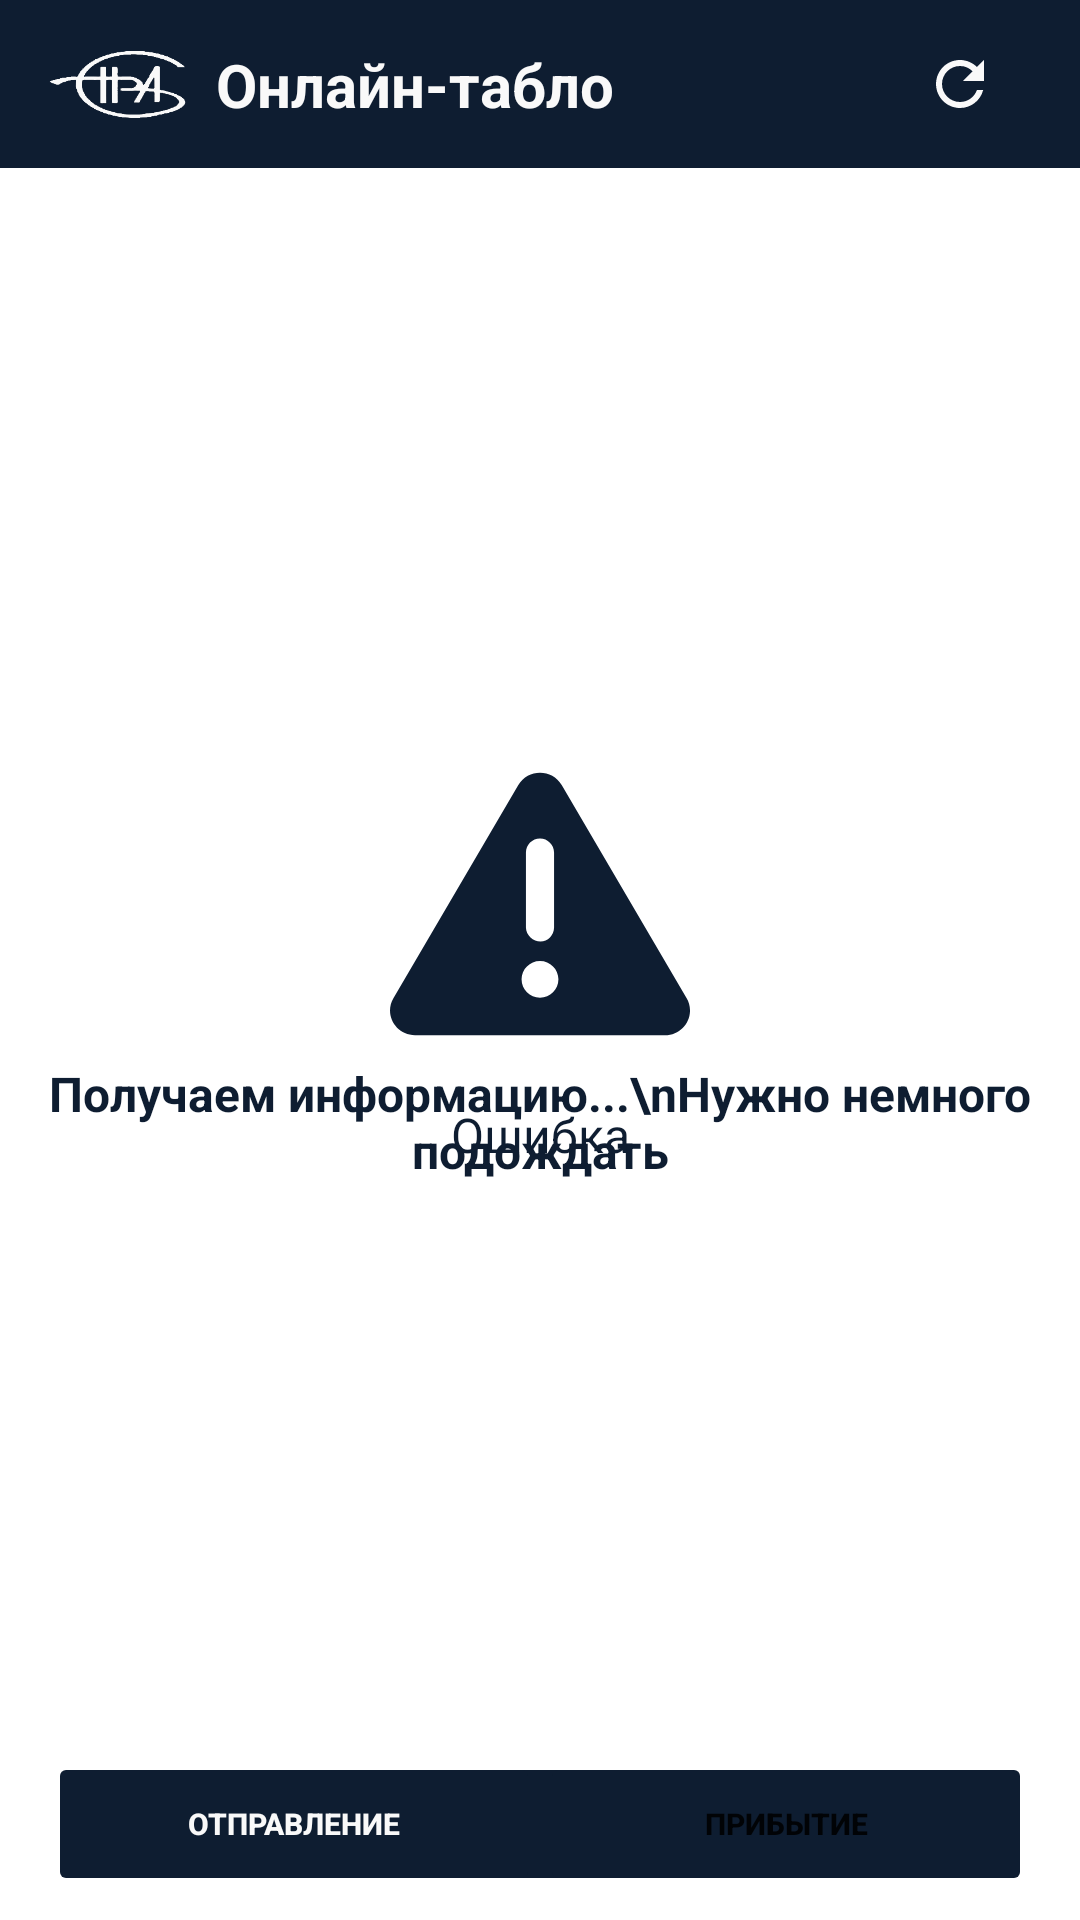

Icon bounding boxes for this 1080px×1920px phone screenshot, format (x1, y1, x2, y2):
refresh: (936, 60, 984, 108)
